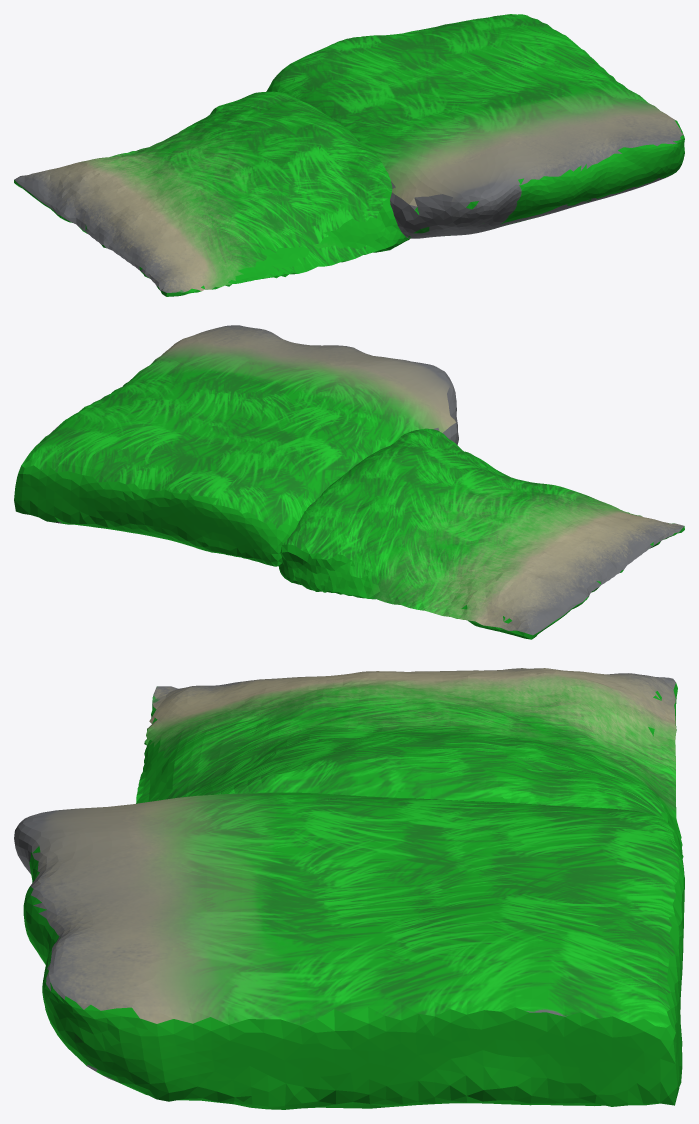
The model's file is ThirdArea.glb.
3 views of the same model, one above another, from view 1: azimuth 30°, elevation 25°; view 2: azimuth 150°, elevation 25°; view 3: azimuth 270°, elevation 25° (orthographic). The views are drawn at different scales.
Visible parts, largest first — view 1: Plane.001, Plane; view 2: Plane.001, Plane; view 3: Plane.001, Plane.
Part boxes in pixels (<box>): Plane.001: <box>266,14,684,238</box>; Plane: <box>14,91,409,296</box>; Plane.001: <box>14,325,458,566</box>; Plane: <box>278,428,684,639</box>; Plane.001: <box>14,792,684,1109</box>; Plane: <box>136,668,683,858</box>.
Size of the model in its own units: 49.53 by 8.41 by 32.64.
2 materials, 2 textured.
